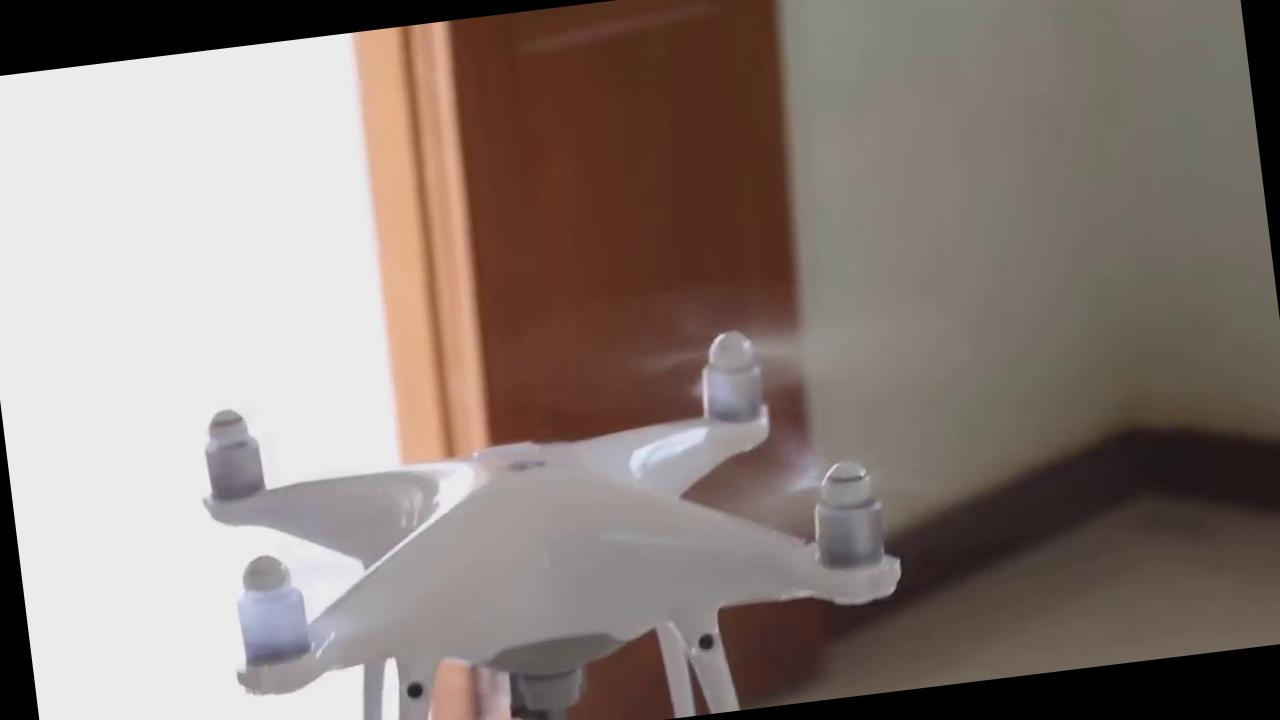drone: (154, 291, 946, 720)
